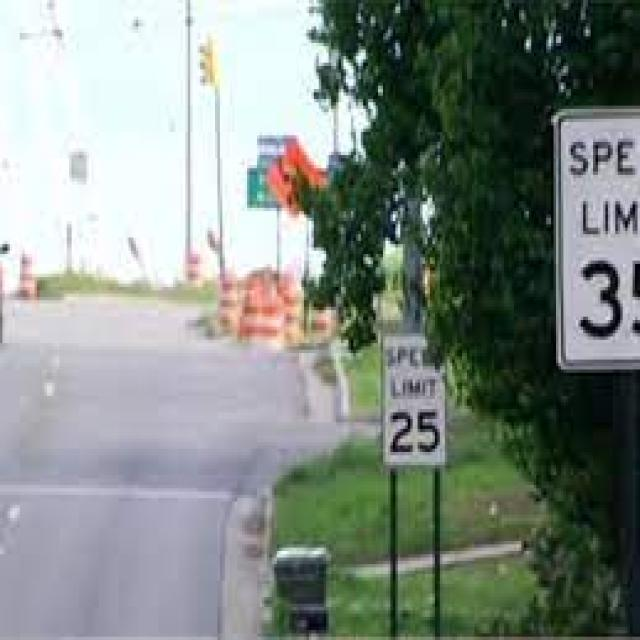speedLimit25: (377, 322, 448, 470)
speedLimit35: (548, 117, 638, 368)
